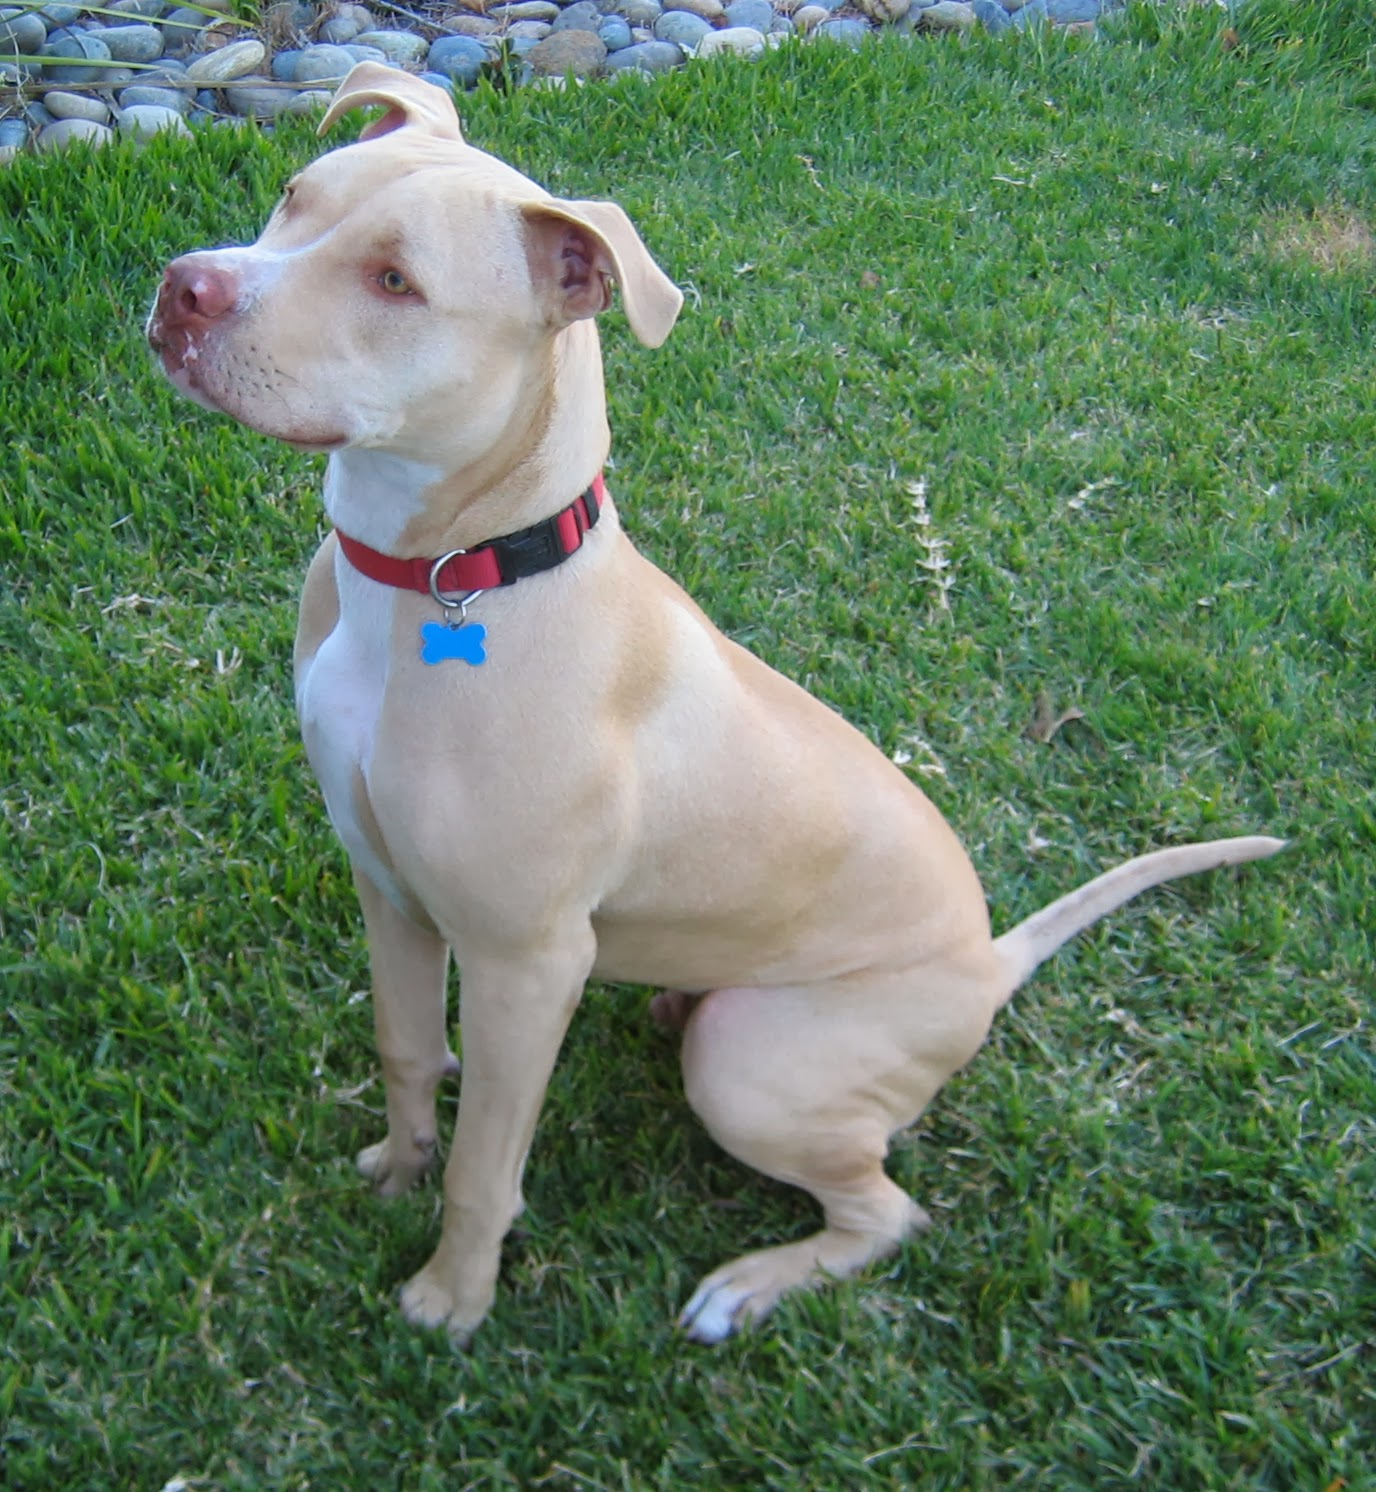am_pit_bull_terrier: (139, 58, 1295, 1346)
